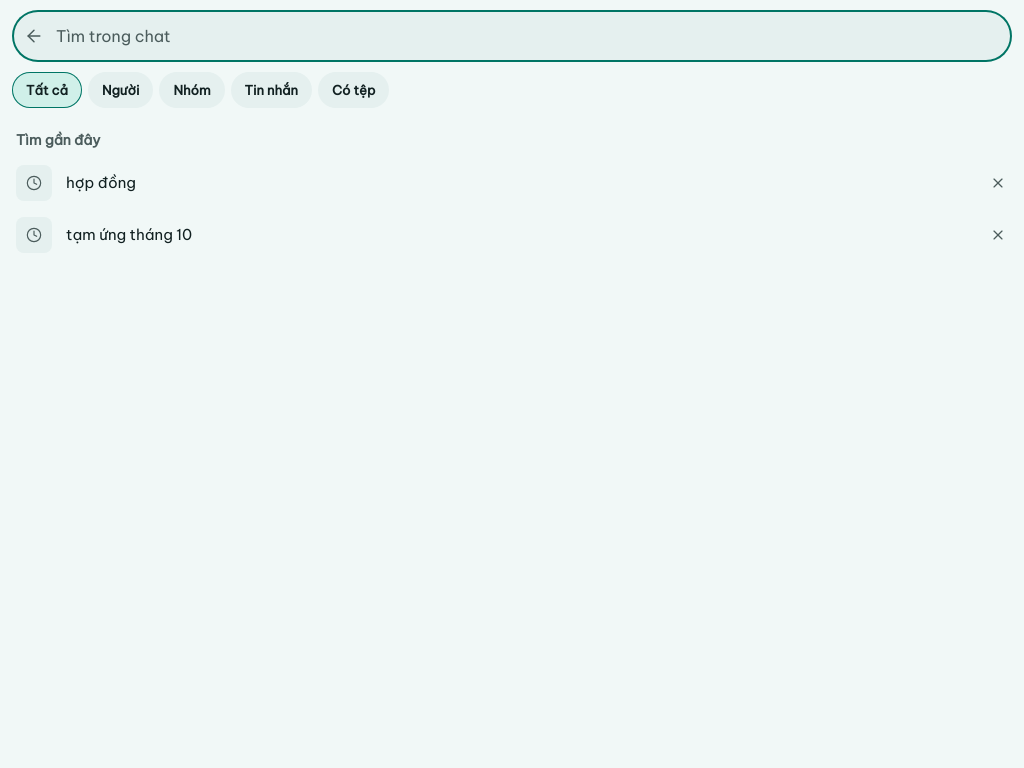
Test: before anything is typed › lists the recent searches of this person, and a tap fills the box
Expected: the text "Tìm gần đây" is shown, [16,131,100,149]
Click the button with aria-label "Tìm lại ": point(34, 235) [0,209,976,261]
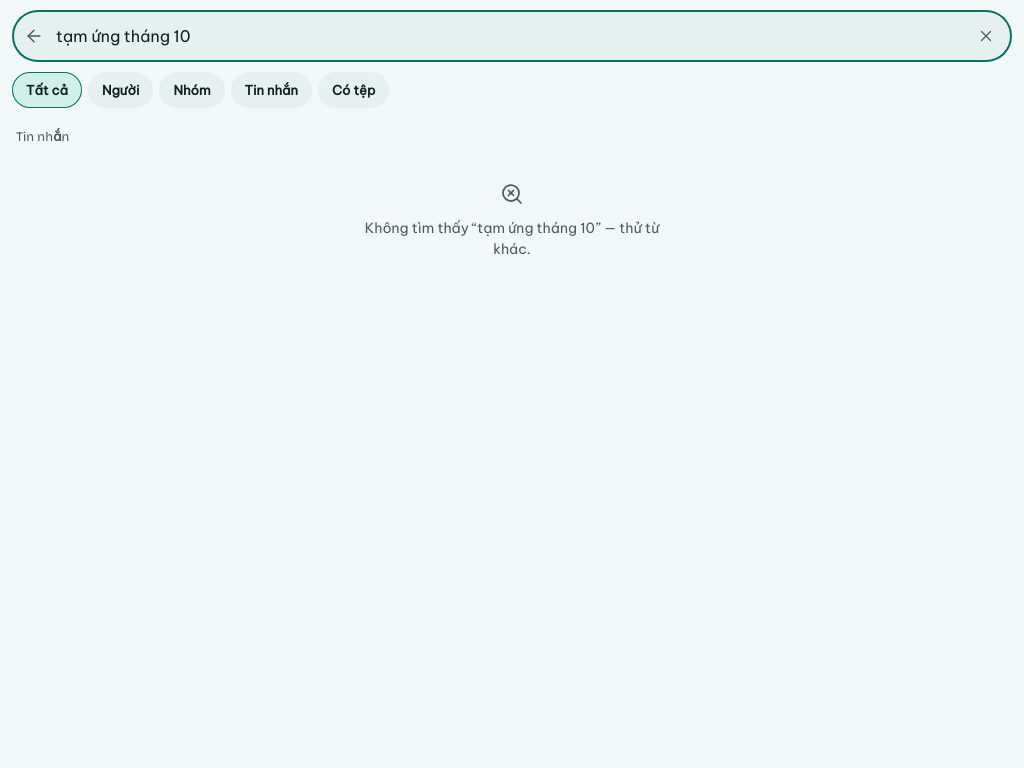
Expected: the search field named "Tìm trong chat" holds "tạm ứng tháng 10", [56,14,964,58]
